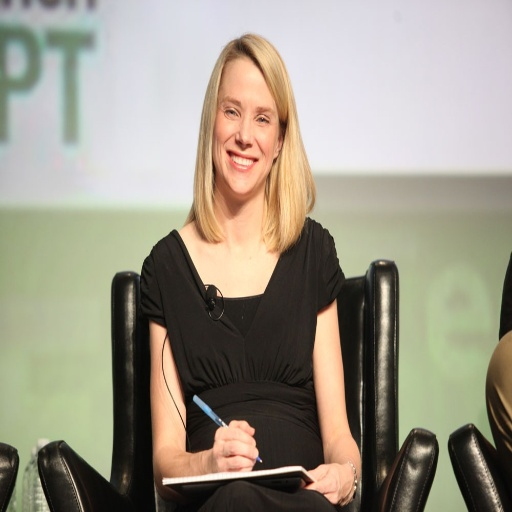hand: (207, 429, 264, 481), (302, 460, 354, 507)
